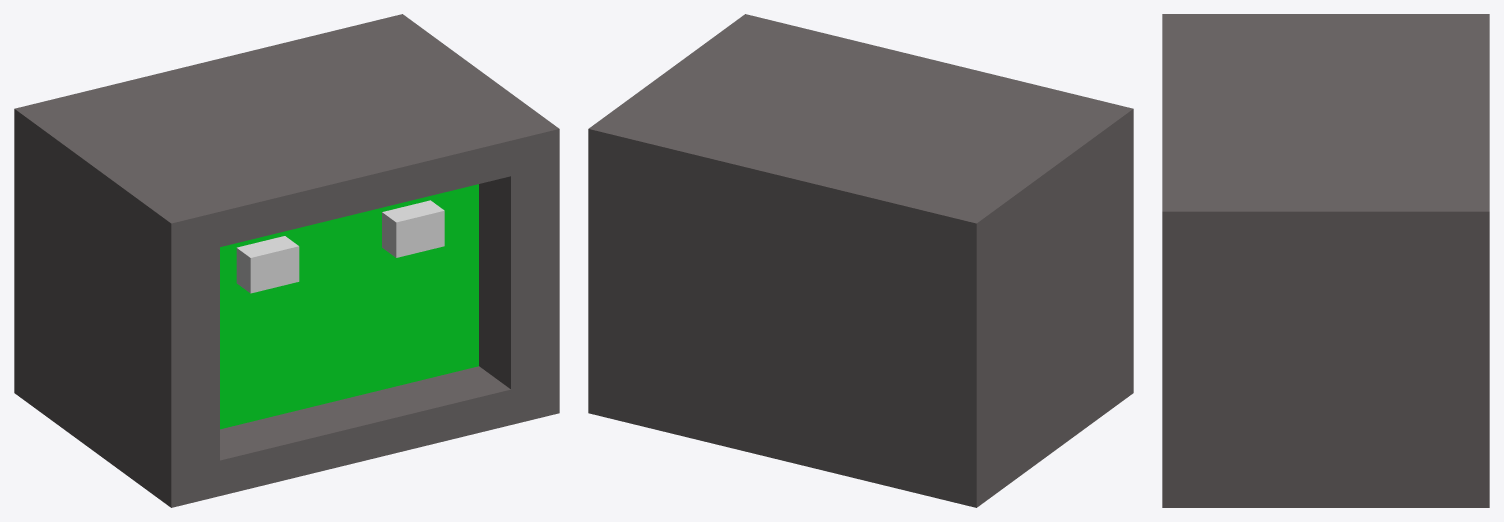
3 views of the same model, side by side, from view 1: azimuth 30°, elevation 25°; view 2: azimuth 150°, elevation 25°; view 3: azimuth 270°, elevation 25° (orthographic). The views are drawn at different scales.
Visible parts, largest first — view 1: Cube; view 2: Cube; view 3: Cube.
Part boxes in pixels (<box>): Cube: <box>14,14,559,507</box>; Cube: <box>588,14,1133,507</box>; Cube: <box>1162,14,1489,507</box>.
Bounding box in the file's own units: 2 × 1.4 × 1.4.
